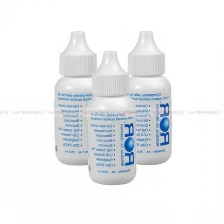cleaning_solution: (51, 26, 110, 166), (83, 46, 140, 189), (120, 26, 173, 167)
